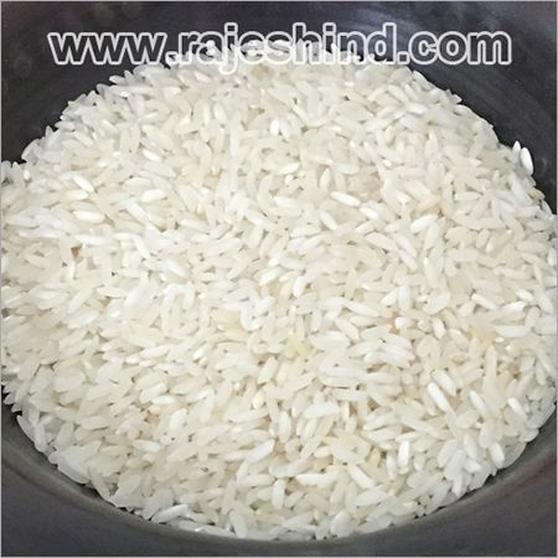rice: (23, 119, 540, 484)
